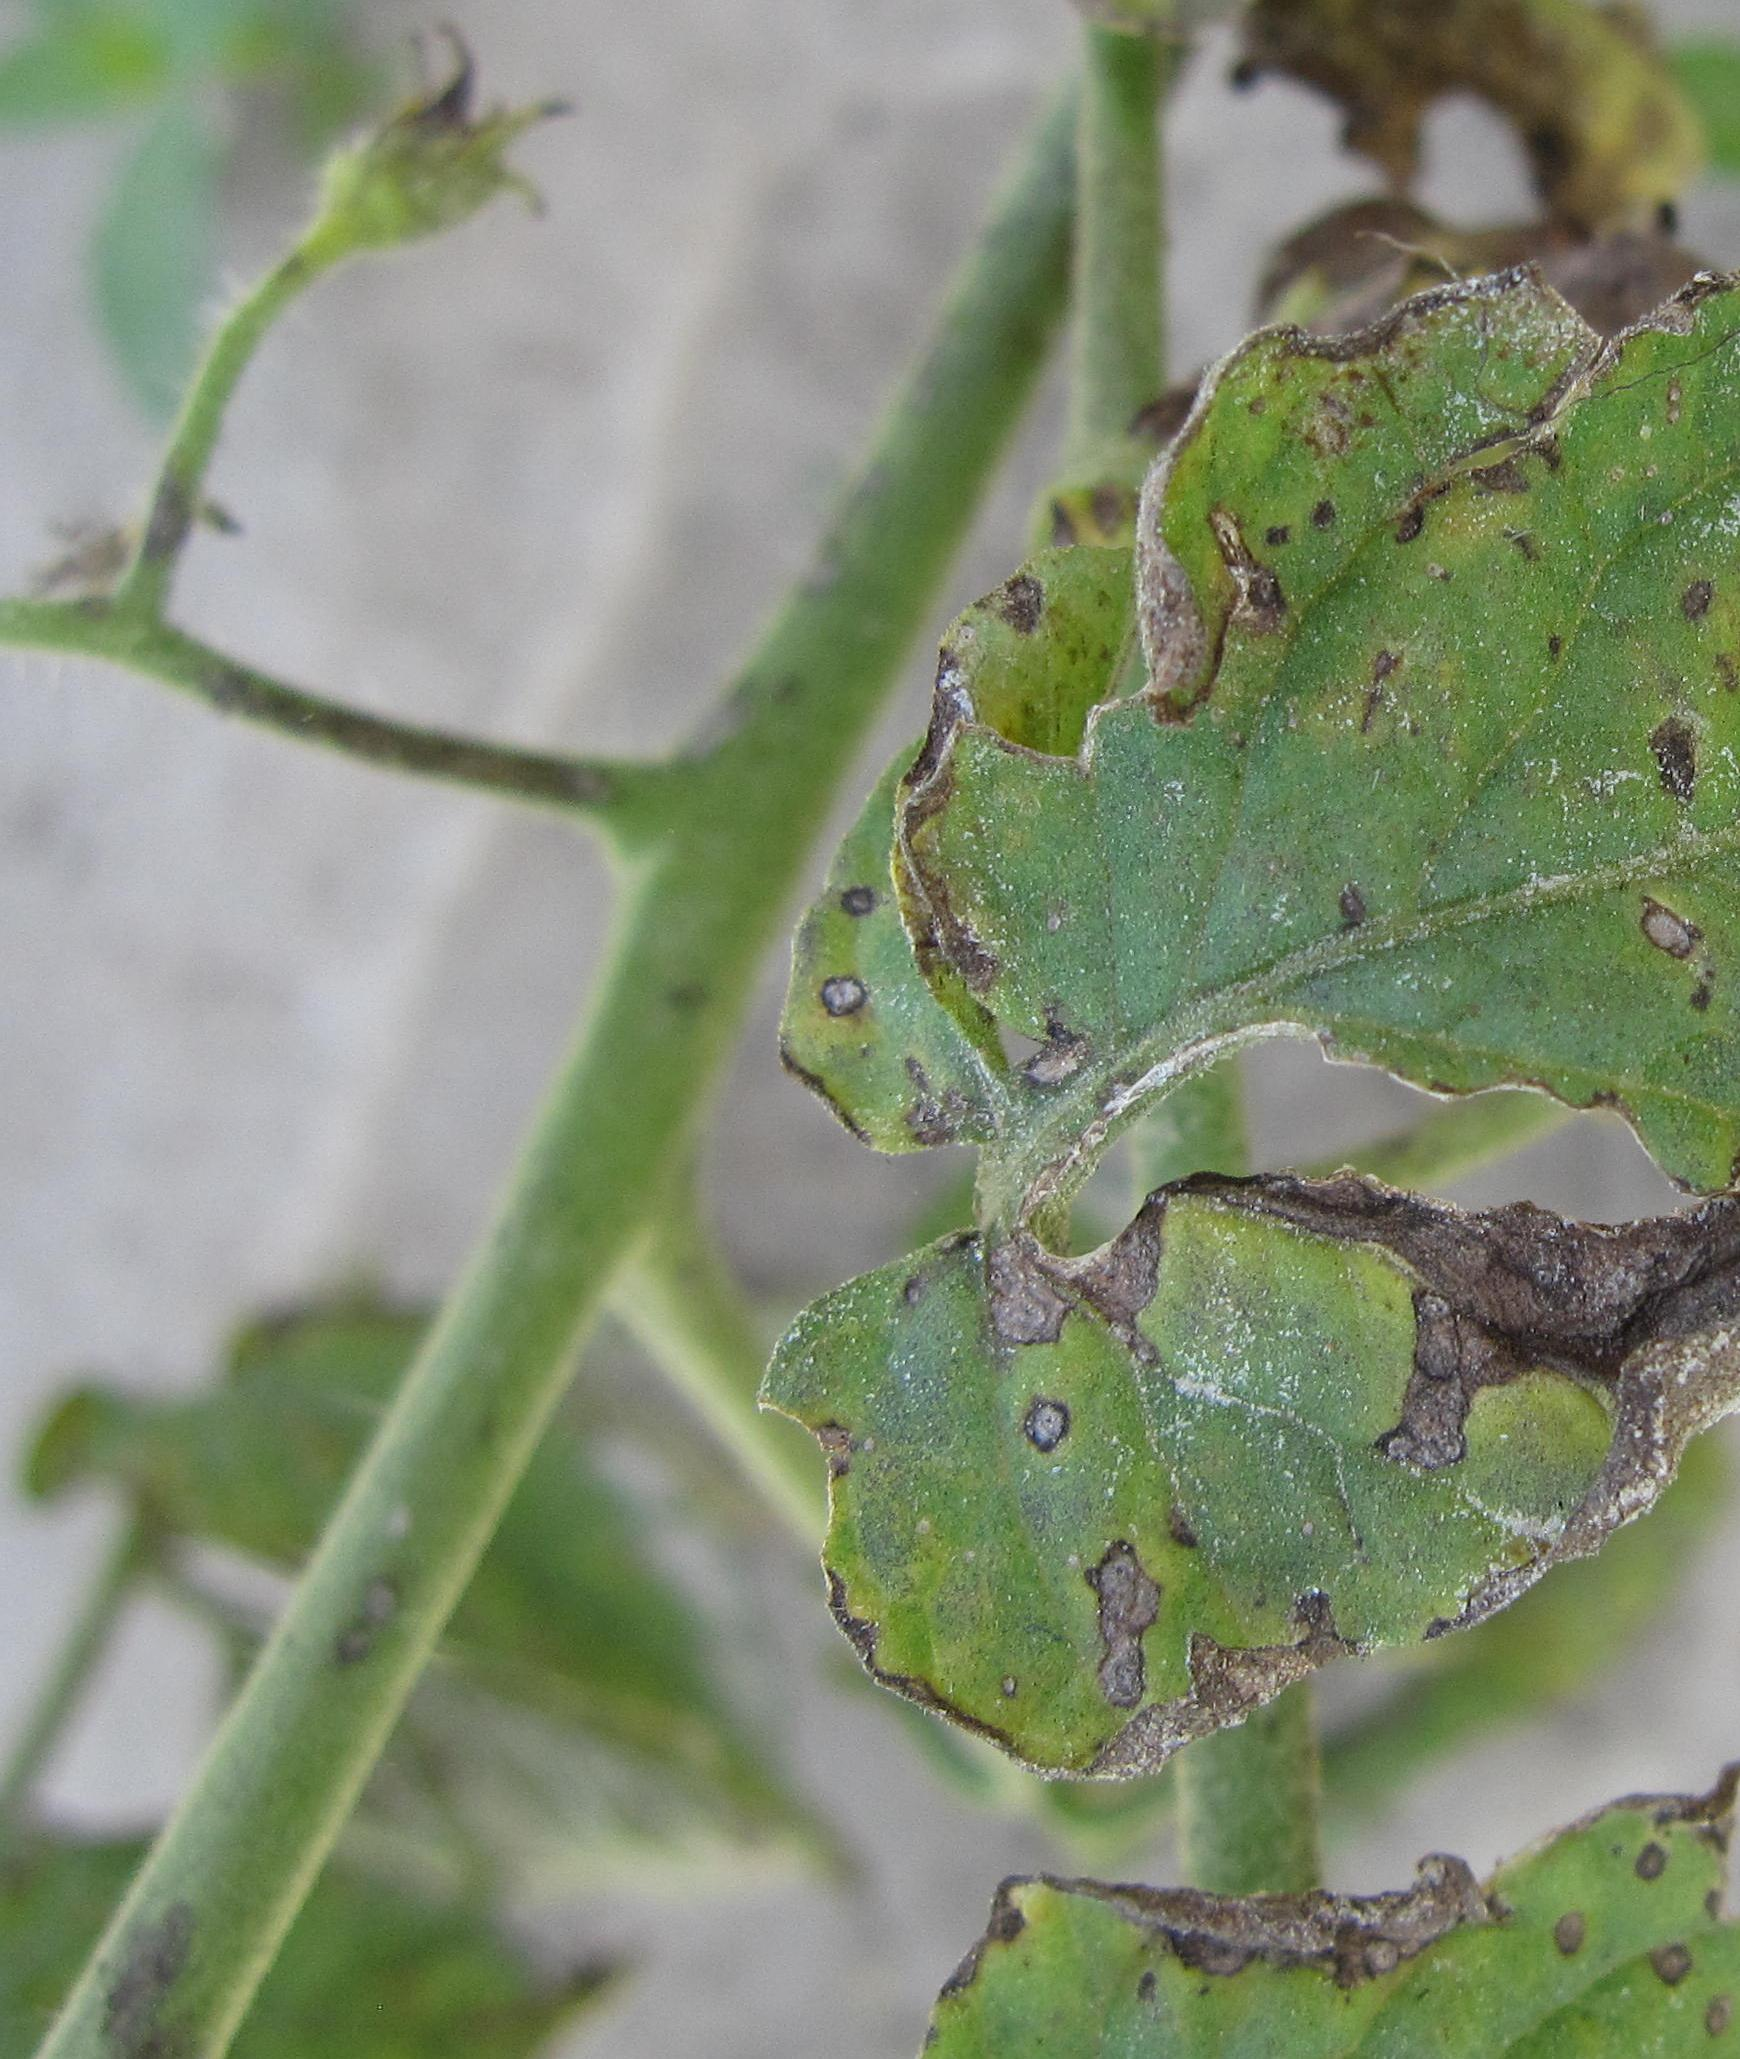Tomato leaf bacterial spot: (617, 138, 1740, 1783)
